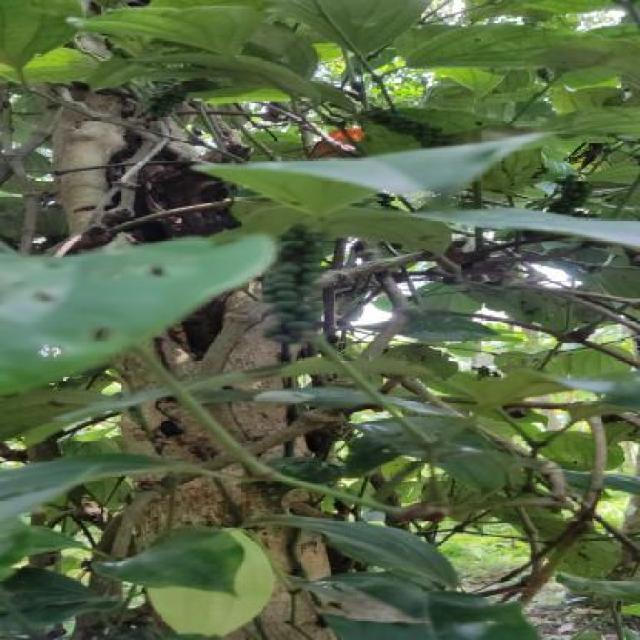UNRIPE: (254, 224, 320, 342), (352, 110, 451, 147), (142, 83, 189, 120), (546, 178, 586, 215)
